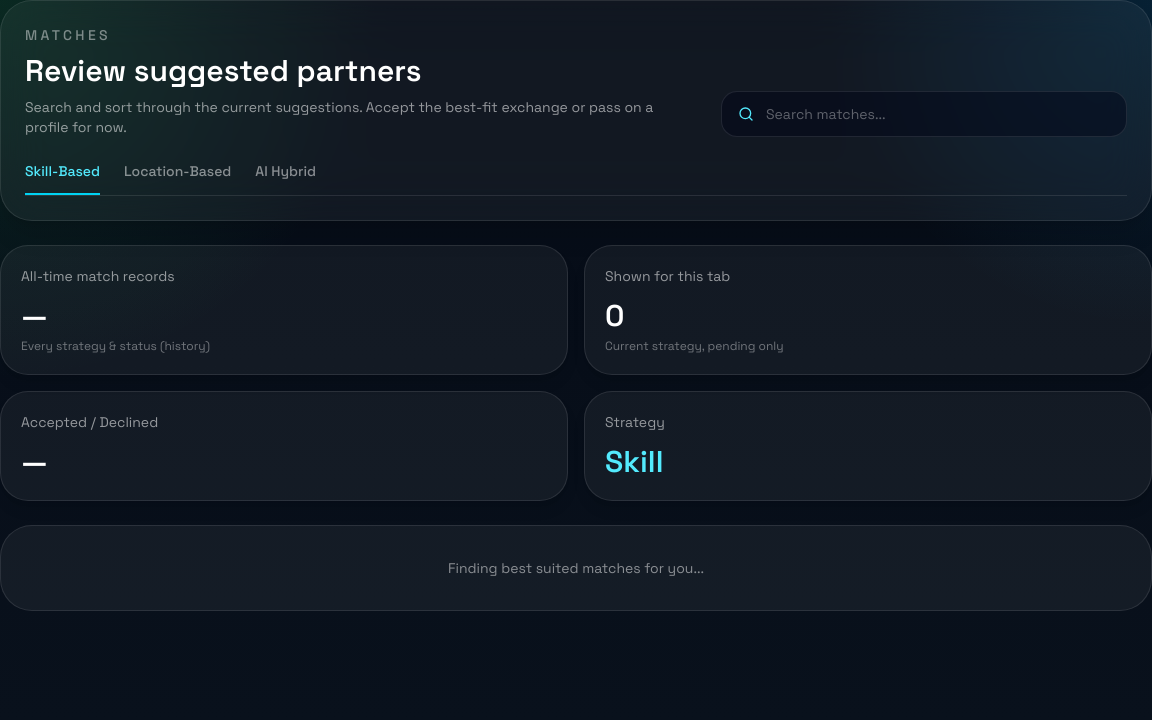
Scenario: AI Matches UI Integration › renders matches returned by the AI Hybrid strategy with correct scores
Note: Switch to 'AI Hybrid' strategy tab
Click the button "AI Hybrid": (286, 178) [255, 161, 316, 195]
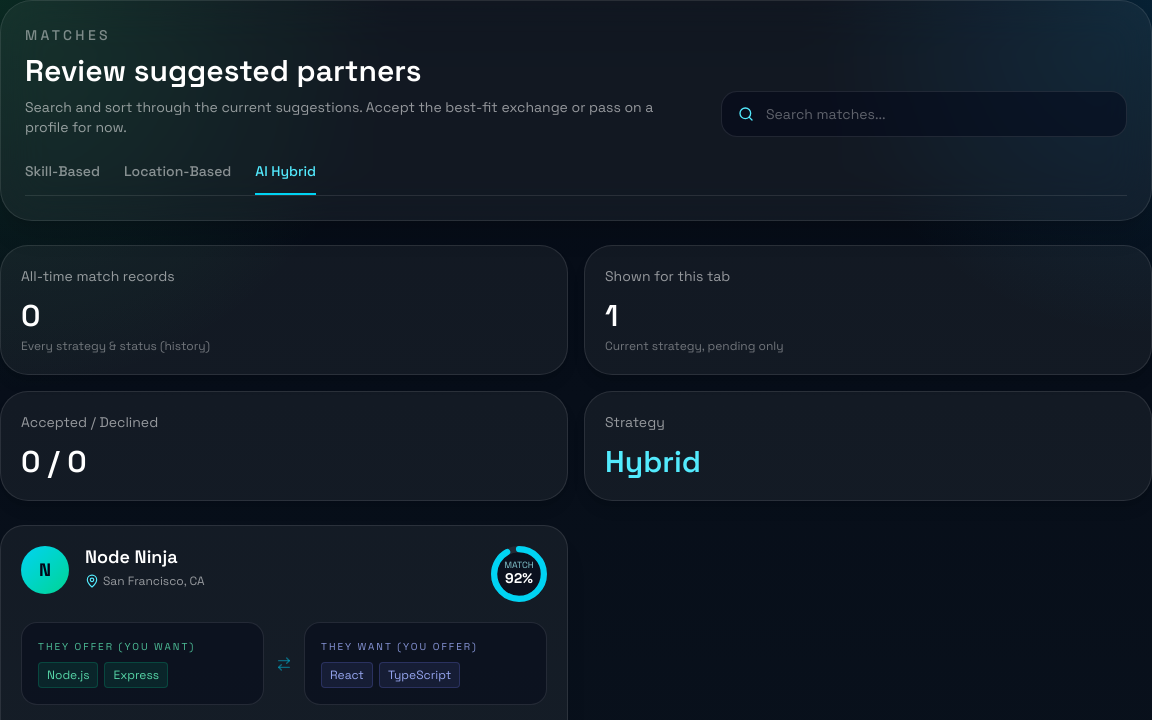
Result: the text "Node Ninja" is shown at [85, 545, 178, 568]
Result: the text "92%" is shown at [505, 570, 533, 587]
Result: the text "Express" is shown at [104, 662, 168, 688]
